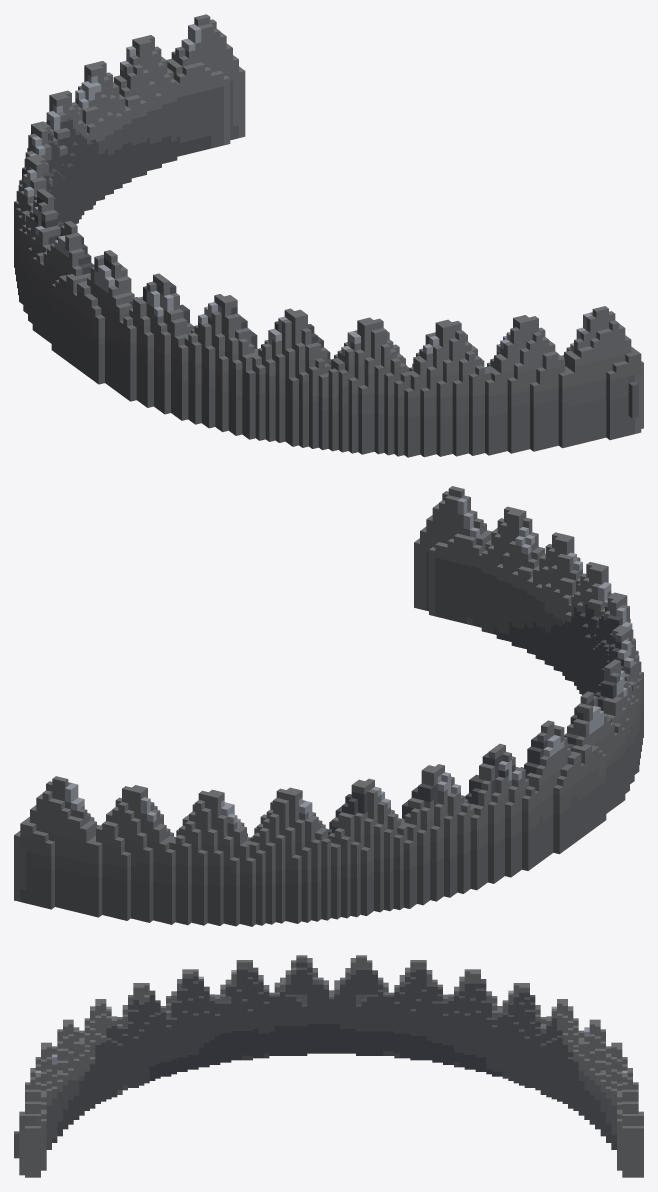
File: trap_r.FBX
3 views of the same model, one above another, from view 1: azimuth 30°, elevation 25°; view 2: azimuth 150°, elevation 25°; view 3: azimuth 270°, elevation 25° (orthographic). The views are drawn at different scales.
Parts seen in each view (by area): view 1: default015; view 2: default015; view 3: default015.
Part boxes in pixels (bbox=[...]): default015: bbox=[14, 14, 643, 457]; default015: bbox=[14, 486, 643, 926]; default015: bbox=[14, 955, 643, 1177].
Size of the model in its own units: 735 by 241 by 1471.
